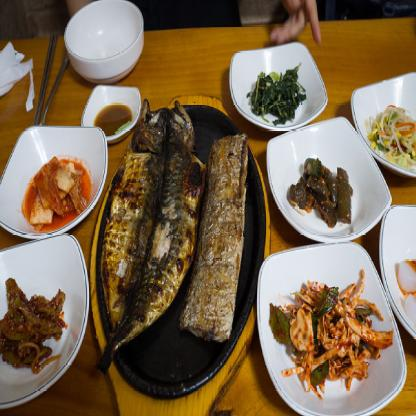Peixe: (90, 92, 198, 377)
